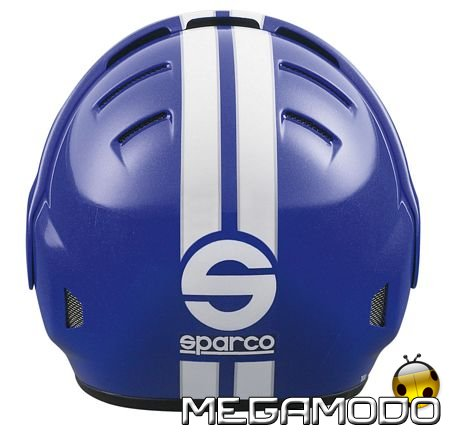helmet: (41, 36, 423, 384)
